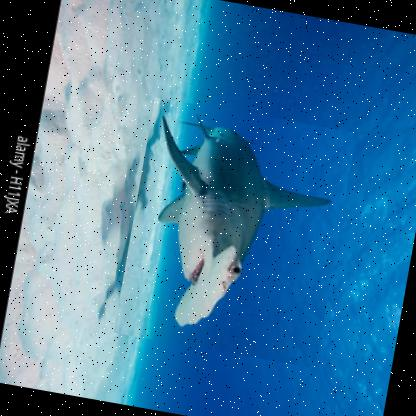hammerhead_Shark: (112, 96, 356, 368)
